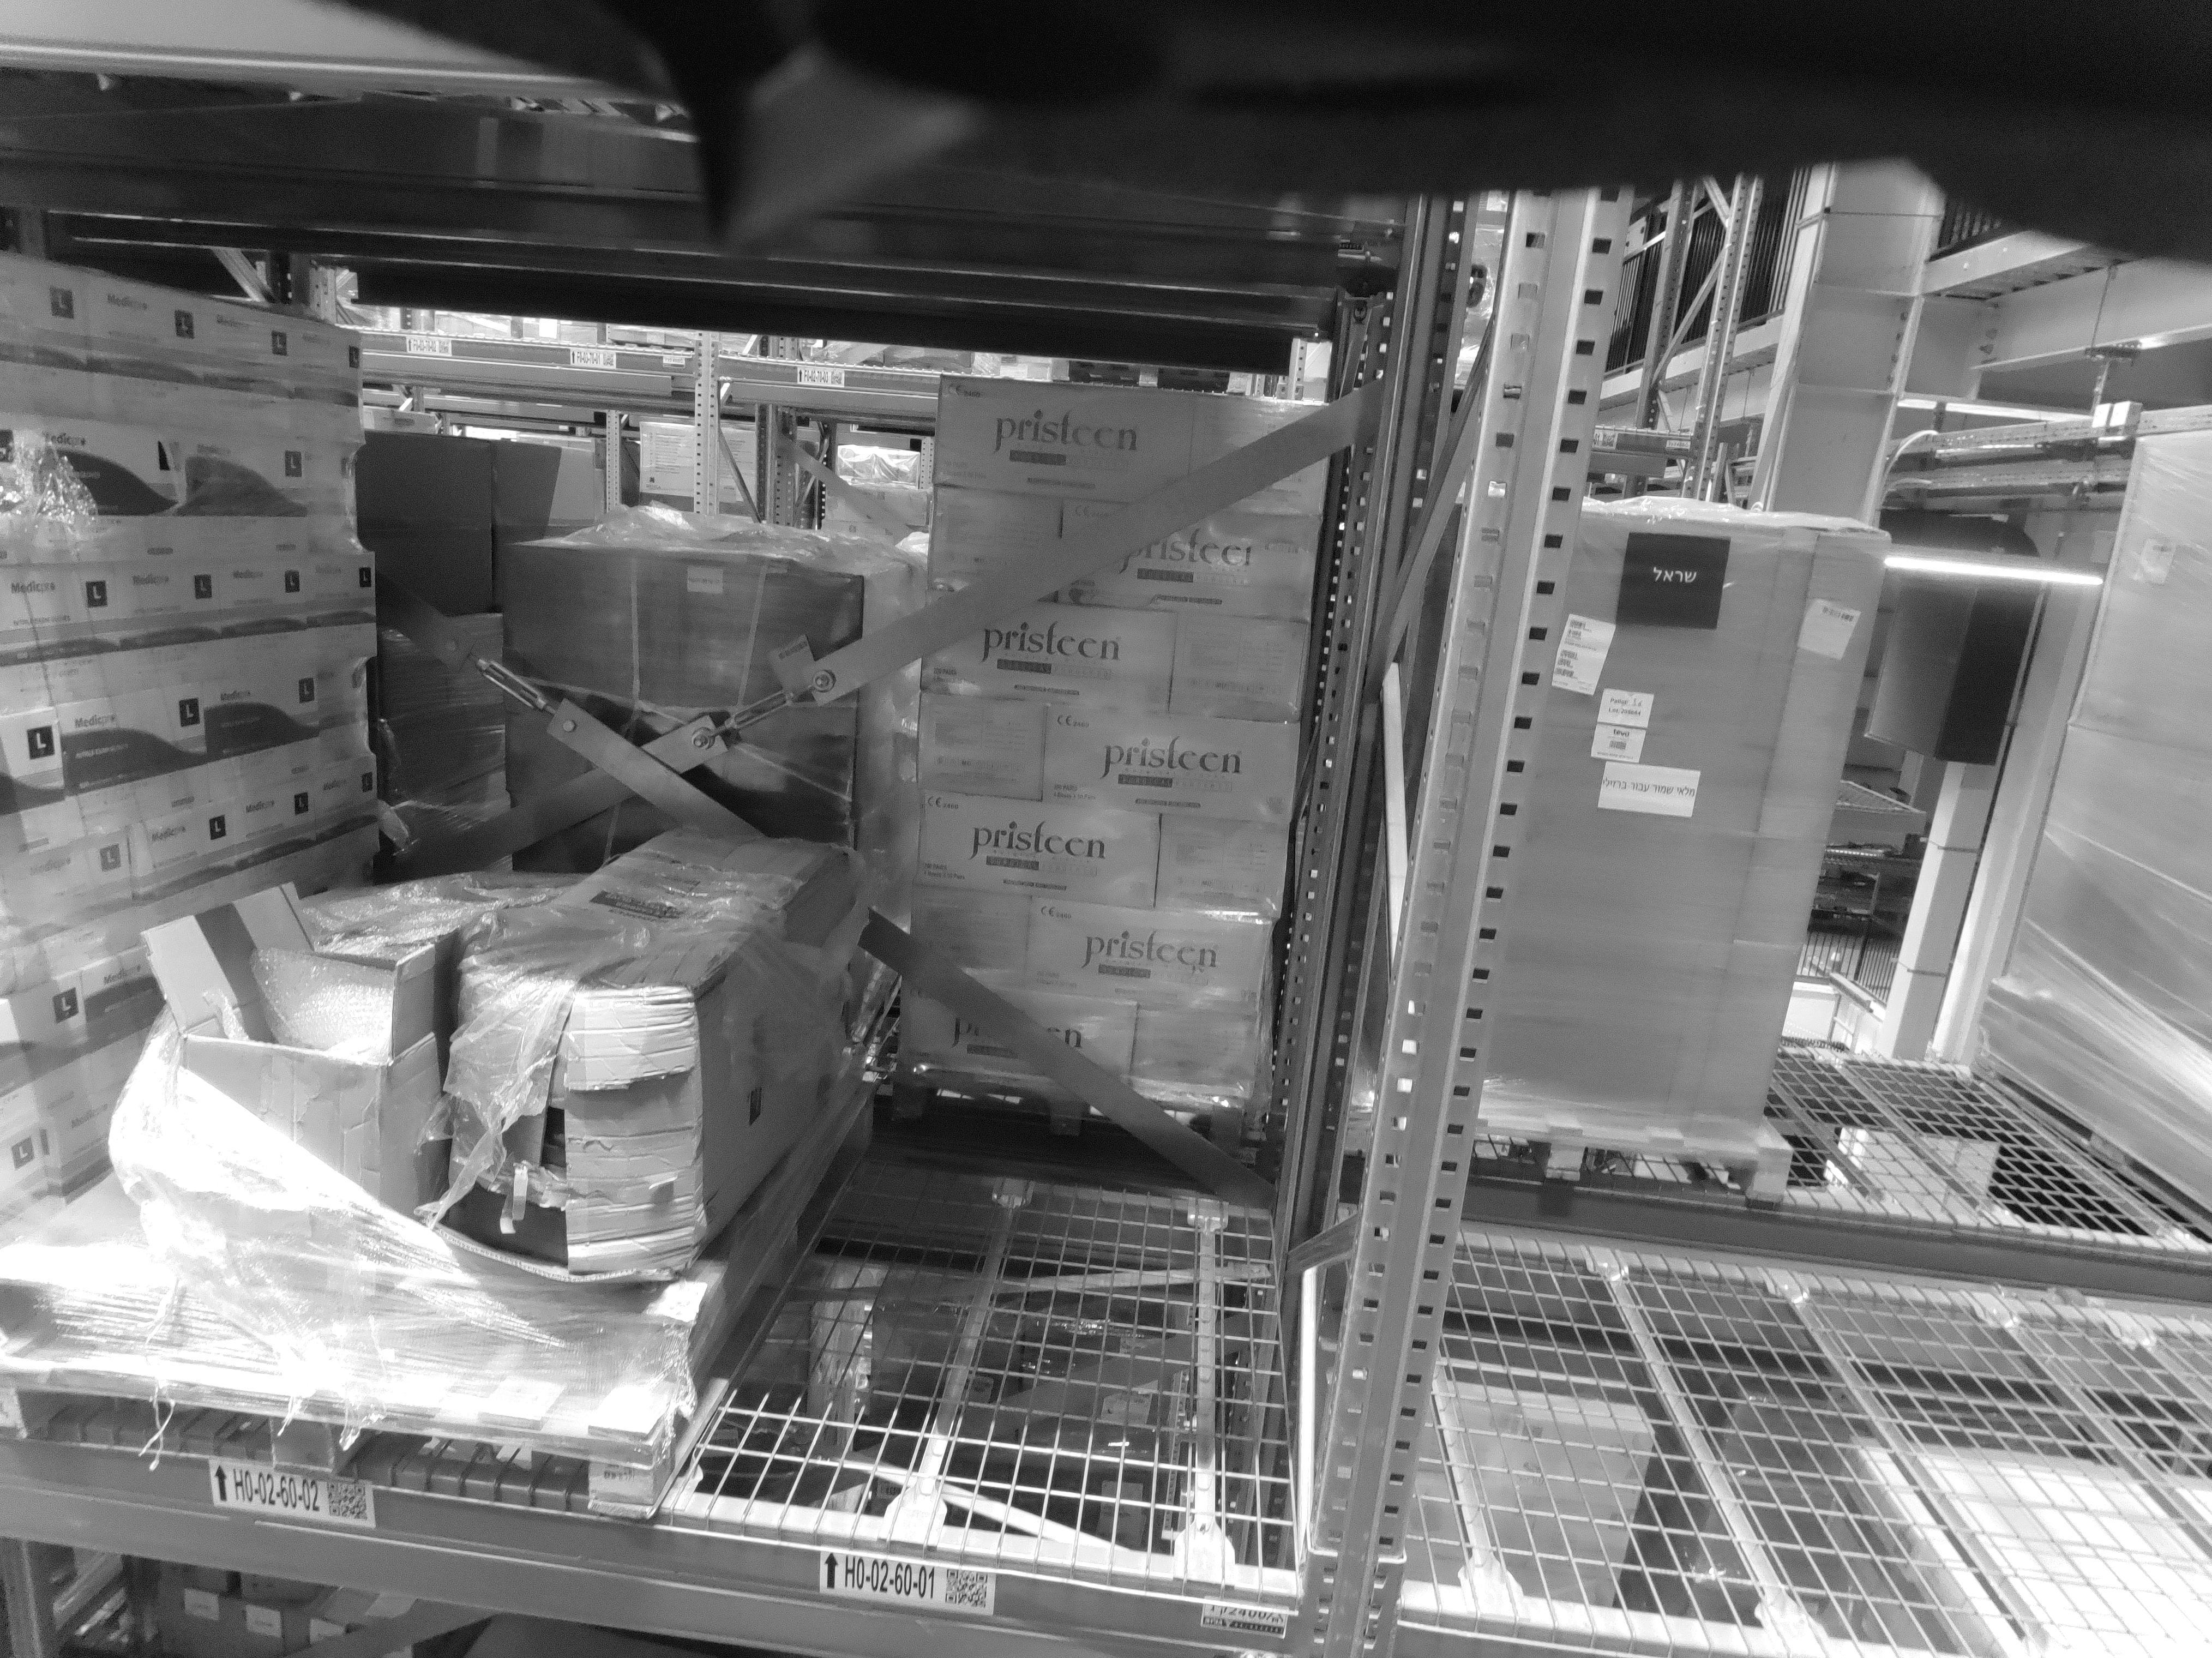empty-shelf: (951, 329, 1249, 1440), (1616, 280, 1851, 1541), (2010, 305, 2212, 1566)
